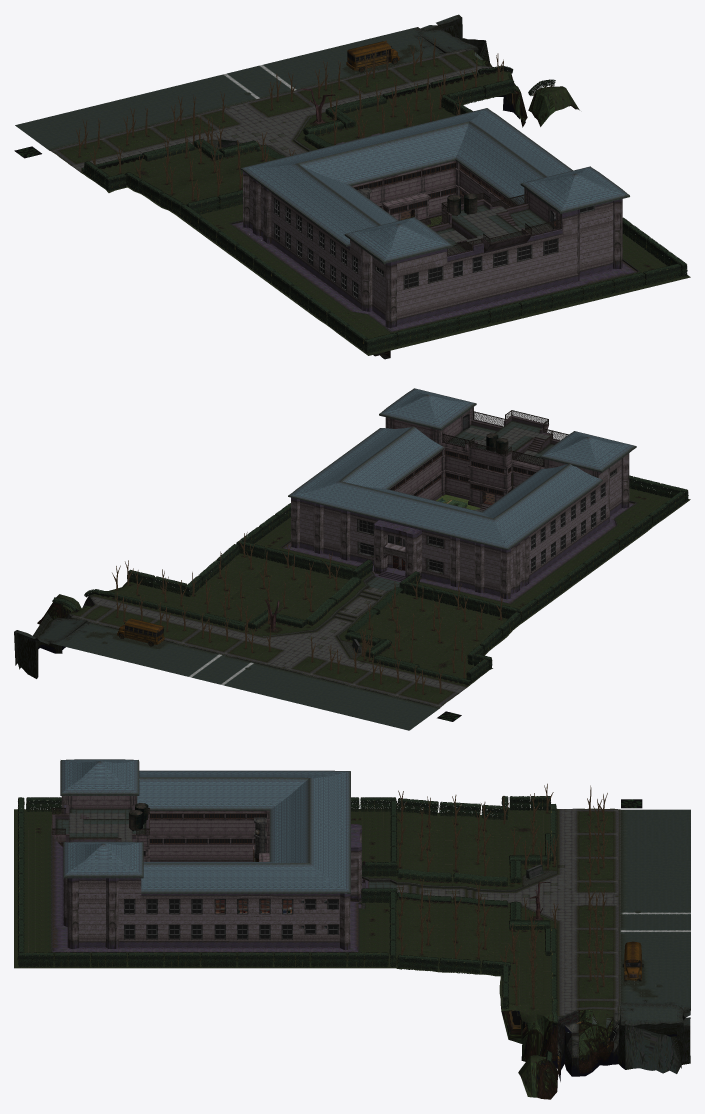
File: map2.glb
3 renders of one model, top to bottom at view 1: azimuth 30°, elevation 25°; view 2: azimuth 150°, elevation 25°; view 3: azimuth 270°, elevation 25°, orthographic. The views are drawn at different scales.
Visible parts, largest first — view 1: SM_OutsideSchoolEnterace_82, SM_Outside_81, SM_Roof_87, SM_SchoolRooftop_86, SM_InnerCourtyard_83, SM_SecondFloor_EastCorridor_100, SM_SecondFloor_Library_103; view 2: SM_OutsideSchoolEnterace_82, SM_Outside_81, SM_Roof_87, SM_SchoolRooftop_86, SM_InnerCourtyard_83; view 3: SM_OutsideSchoolEnterace_82, SM_Outside_81, SM_Roof_87, SM_InnerCourtyard_83, SM_SchoolRooftop_86, SM_SecondFloor_NorthStairsCorridor_101, SM_SecondFloor_SouthClassroom1_98, SM_FirstFloor_TeachersRoom2_76, SM_SecondFloor_SouthClassroom2_95, SM_FirstFloor_TeachersRoom1_77, SM_FirstFloor_NorthStairsCorridor_70.
Part boxes in pixels (x1,y1,x2,y2): SM_OutsideSchoolEnterace_82: (15,14,579,217); SM_Outside_81: (179,133,690,355); SM_Roof_87: (240,108,629,263); SM_SchoolRooftop_86: (419,188,562,256); SM_InnerCourtyard_83: (352,160,526,226); SM_SecondFloor_EastCorridor_100: (353,162,456,189); SM_SecondFloor_Library_103: (375,265,443,289); SM_OutsideSchoolEnterace_82: (14,532,521,730); SM_Outside_81: (236,421,690,622); SM_Roof_87: (288,388,636,550); SM_SchoolRooftop_86: (385,407,598,478); SM_InnerCourtyard_83: (389,442,544,511); SM_OutsideSchoolEnterace_82: (396,783,690,1099); SM_Outside_81: (14,796,397,968); SM_Roof_87: (60,759,350,893); SM_InnerCourtyard_83: (136,810,269,861); SM_SchoolRooftop_86: (51,796,149,887); SM_SecondFloor_NorthStairsCorridor_101: (148,813,266,819); SM_SecondFloor_SouthClassroom1_98: (214,898,293,914); SM_FirstFloor_TeachersRoom2_76: (124,924,202,939); SM_SecondFloor_SouthClassroom2_95: (124,899,202,914); SM_FirstFloor_TeachersRoom1_77: (214,924,292,939); SM_FirstFloor_NorthStairsCorridor_70: (149,838,266,844).
Size of the model in its own units: 85.31 by 29.43 by 96.65.
Materials: 74 (73 with a texture image).
